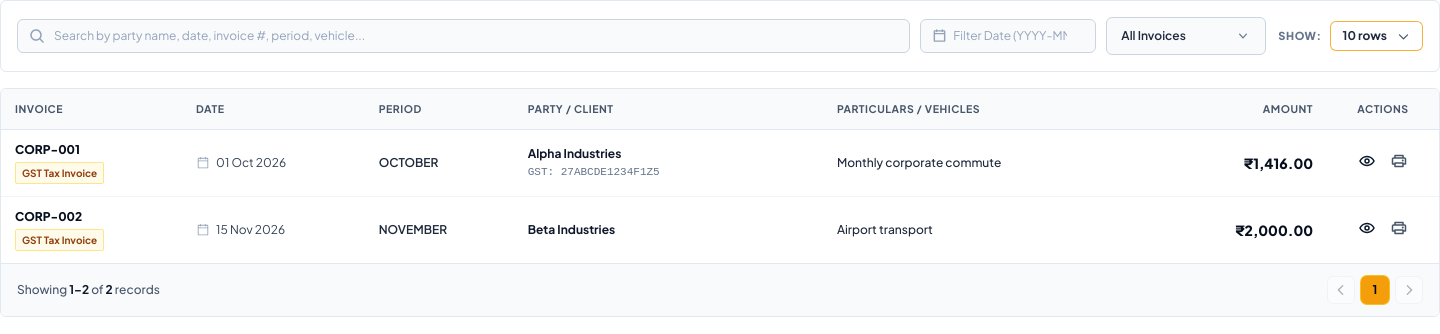
Test: corporate invoice search accepts displayed, numeric and ISO dates
The image size is (1440, 334).
Type "01 Oct 2026" into the field with placeholder "Search by party name, date, invoice #, period, vehicle..." at (464, 36), box [17,19,910,53]
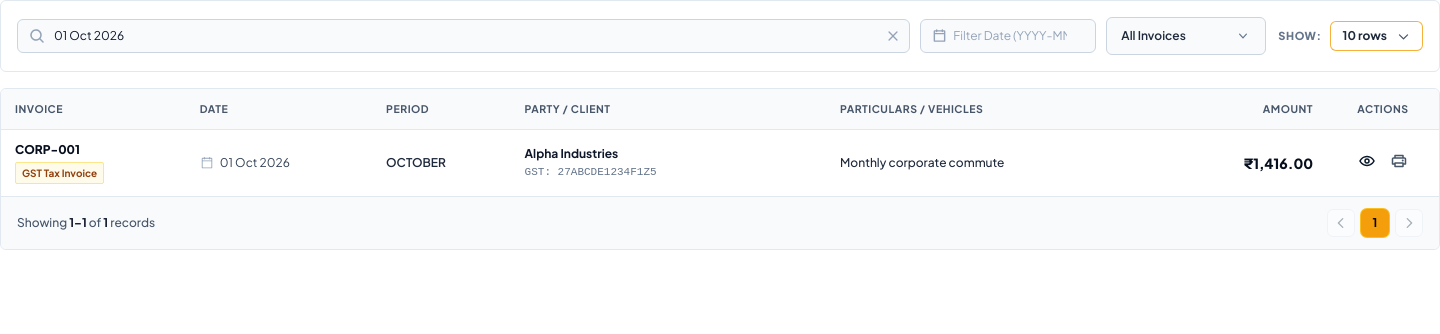
Expected: the text "CORP-001" is shown, [15,142,80,158]
Result: the text "CORP-002" is gone
Replace the text in the field with placeholder "Search by party name, date, invoice #, period, vehicle..." with "01/10/2026" at (464, 36), box [17,19,910,53]
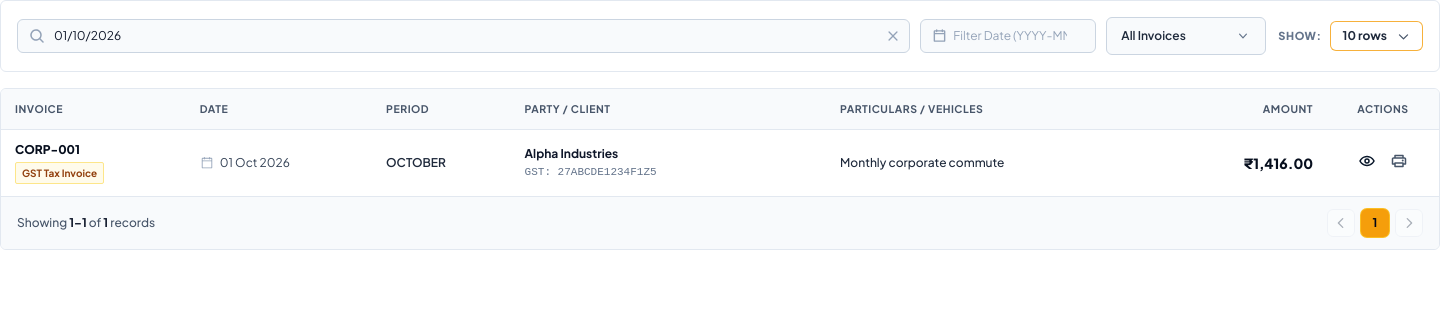
Expected: the text "CORP-001" is shown, [15,142,80,158]
Replace the text in the field with placeholder "Search by party name, date, invoice #, period, vehicle..." with "MH 12 AB 1234" at (464, 36), box [17,19,910,53]
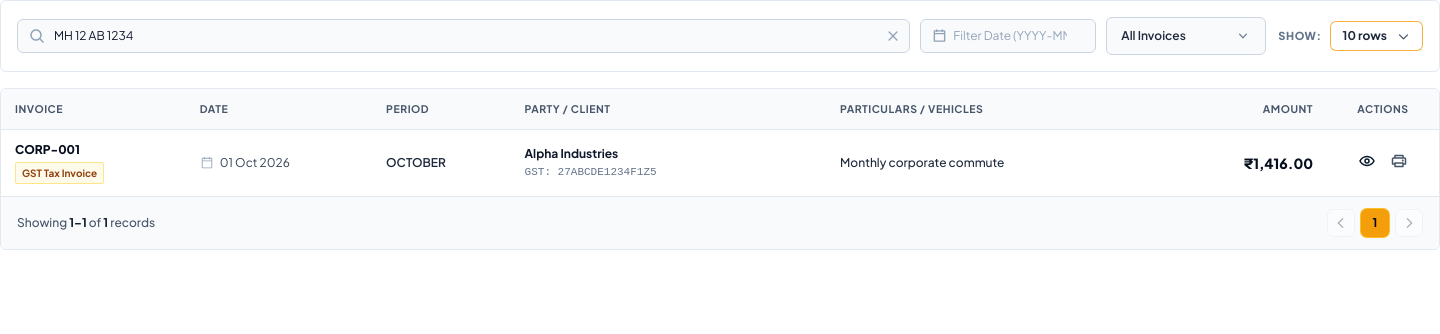
Expected: the text "CORP-001" is shown, [15,142,80,158]
Clear the field with placeholder "Search by party name, date, invoice #, period, vehicle..." at (464, 36), box [17,19,910,53]
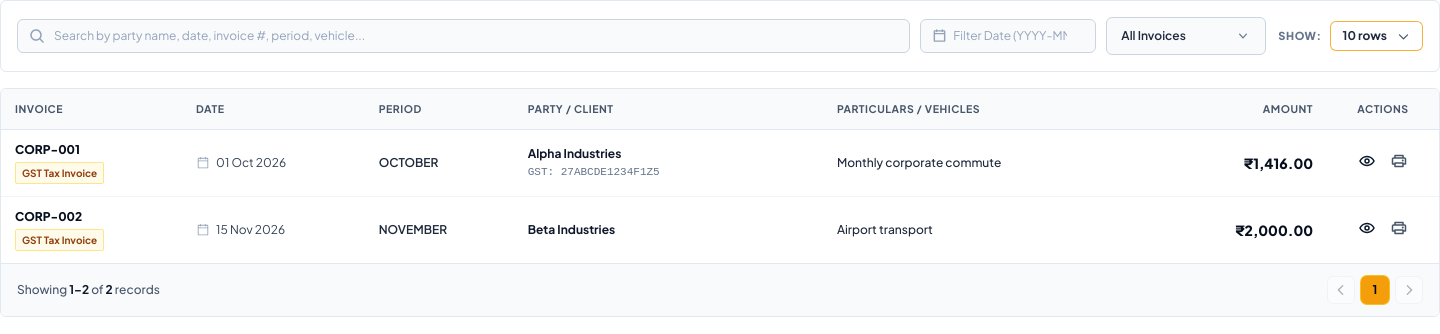
Type "2026-11" into the field with placeholder "Filter Date (YYYY-MM)" at (1008, 36), box [920,19,1096,53]
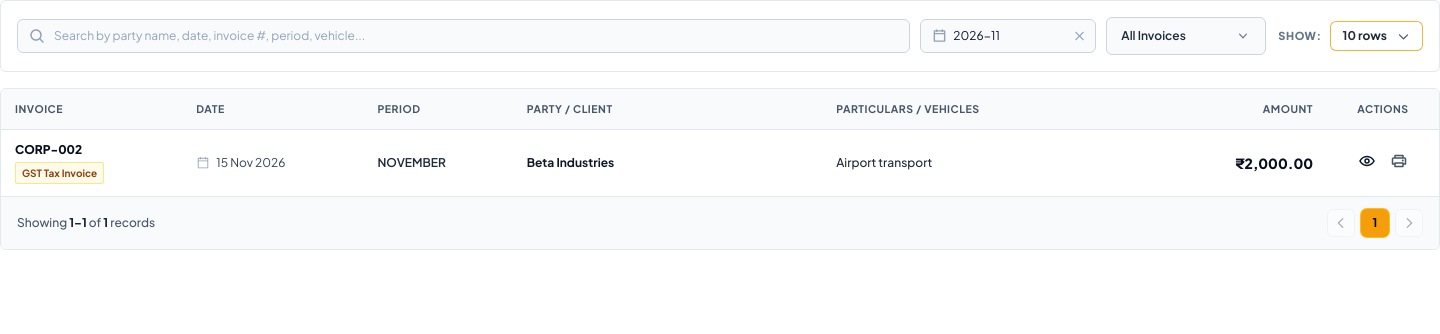
Result: the text "CORP-002" is shown at [15,142,82,158]
Result: the text "CORP-001" is gone
